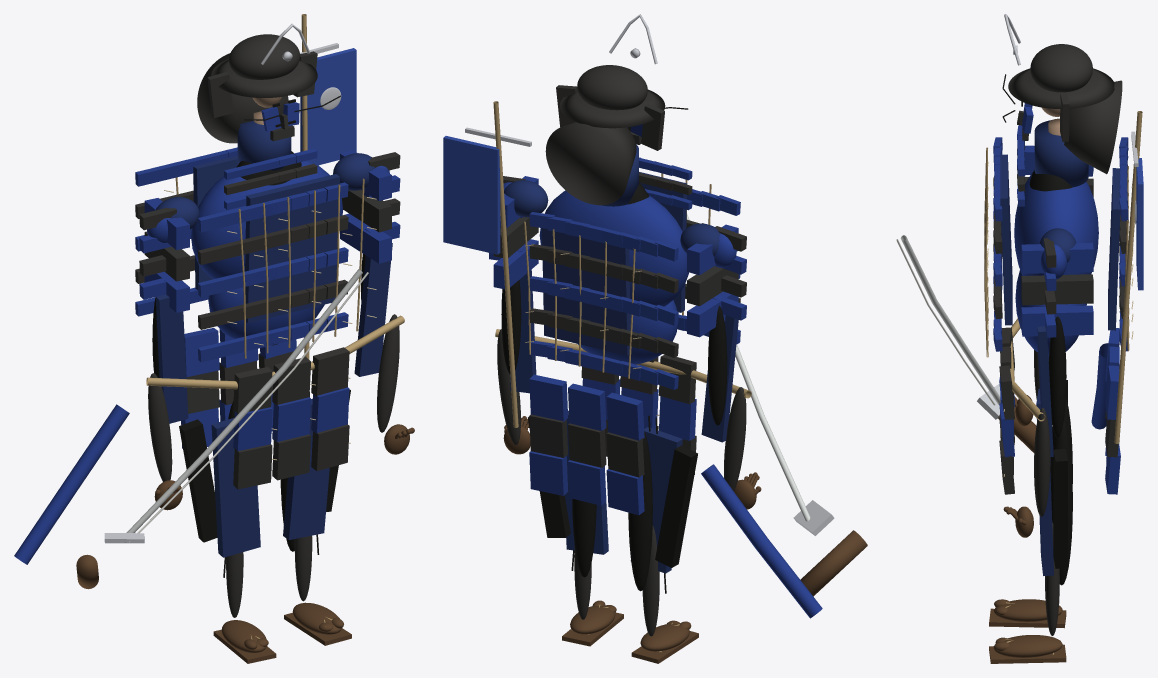
File: samurai_character.glb
3 views of the same model, side by side, from view 1: azimuth 30°, elevation 25°; view 2: azimuth 150°, elevation 25°; view 3: azimuth 270°, elevation 25° (orthographic).
Parts seen in each view (by area): view 1: front under-kimono chest panel, cloth sashimono banner panel, left broad hanging hakama outer cloth, upper do cuirass fitted shell, lacquered saya scabbard at left hip, left long hanging sleeve cloth, right broad hanging hakama outer cloth, right long hanging sleeve cloth, left deep side hakama fold, compact segmented kabuto helmet bowl, drawn katana blade spine, layered rear shikoro neck guard (+38 smaller); view 2: cloth sashimono banner panel, layered rear shikoro neck guard, upper do cuirass fitted shell, rear under-kimono back panel, lacquered saya scabbard at left hip, left deep side hakama fold, compact segmented kabuto helmet bowl, left hidden hakama trouser leg volume, thin kabuto brim, left broad hanging hakama outer cloth, left hidden upper arm volume, bamboo sashimono back pole (+39 smaller); view 3: upper do cuirass fitted shell, layered rear shikoro neck guard, compact segmented kabuto helmet bowl, thin kabuto brim, neck guard collar, right side cuirass plate 2, bamboo sashimono back pole, right deep side hakama fold, right side cuirass plate 3, right hidden upper arm volume, front under-kimono chest panel, rear under-kimono back panel (+30 smaller).
Part boxes in pixels (x1,y1,x2,y2): front under-kimono chest panel: [245, 174, 339, 323]; cloth sashimono banner panel: [300, 48, 356, 165]; left broad hanging hakama outer cloth: [211, 418, 260, 557]; upper do cuirass fitted shell: [191, 160, 342, 279]; lacquered saya scabbard at left hip: [14, 404, 129, 564]; left long hanging sleeve cloth: [155, 294, 188, 423]; right broad hanging hakama outer cloth: [283, 399, 329, 539]; right long hanging sleeve cloth: [354, 243, 392, 376]; left deep side hakama fold: [179, 419, 217, 542]; compact segmented kabuto helmet bowl: [229, 34, 300, 79]; drawn katana blade spine: [124, 269, 362, 542]; layered rear shikoro neck guard: [197, 53, 288, 143]; cloth sashimono banner panel: [443, 136, 500, 254]; layered rear shikoro neck guard: [545, 122, 636, 205]; upper do cuirass fitted shell: [539, 190, 688, 306]; rear under-kimono back panel: [542, 228, 630, 355]; lacquered saya scabbard at left hip: [701, 464, 822, 618]; left deep side hakama fold: [655, 445, 697, 567]; compact segmented kabuto helmet bowl: [577, 65, 647, 110]; left hidden hakama trouser leg volume: [628, 431, 652, 591]; thin kabuto brim: [560, 89, 665, 128]; left broad hanging hakama outer cloth: [630, 427, 682, 573]; left hidden upper arm volume: [708, 305, 727, 425]; bamboo sashimono back pole: [493, 101, 518, 427]; upper do cuirass fitted shell: [1014, 172, 1098, 275]; layered rear shikoro neck guard: [1064, 80, 1122, 174]; compact segmented kabuto helmet bowl: [1030, 44, 1092, 92]; thin kabuto brim: [1008, 68, 1114, 109]; neck guard collar: [1034, 120, 1088, 187]; right side cuirass plate 2: [1021, 274, 1093, 305]; bamboo sashimono back pole: [1114, 111, 1142, 443]; right deep side hakama fold: [1053, 449, 1067, 568]; right side cuirass plate 3: [1021, 305, 1093, 336]; right hidden upper arm volume: [1048, 316, 1066, 437]; front under-kimono chest panel: [1000, 154, 1012, 325]; rear under-kimono back panel: [1108, 168, 1120, 330].
Size of what is drawn, in the model's own units: 1.63 by 2.68 by 0.963.
